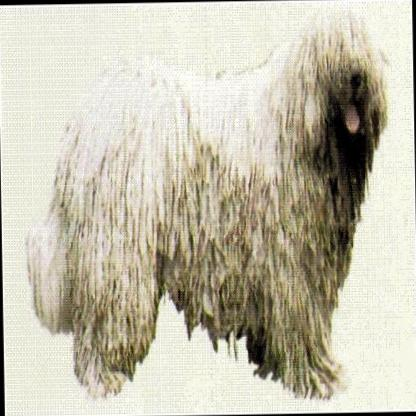komondor: (18, 0, 388, 408)
